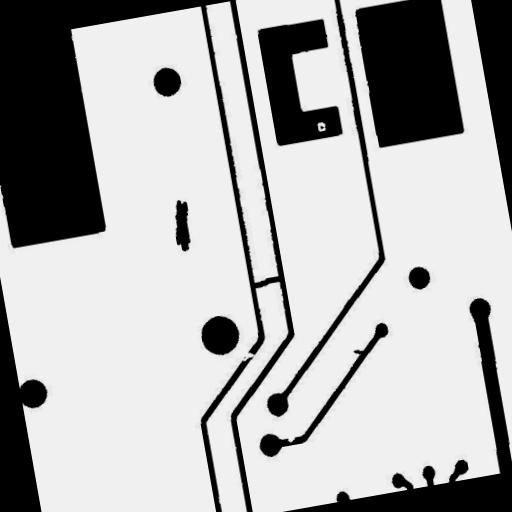copper: (160, 190, 203, 260)
mousebite: (278, 426, 304, 450)
open: (232, 342, 262, 370)
pin-hole: (308, 112, 335, 140)
short: (241, 266, 291, 297)
spur: (344, 339, 374, 364)
